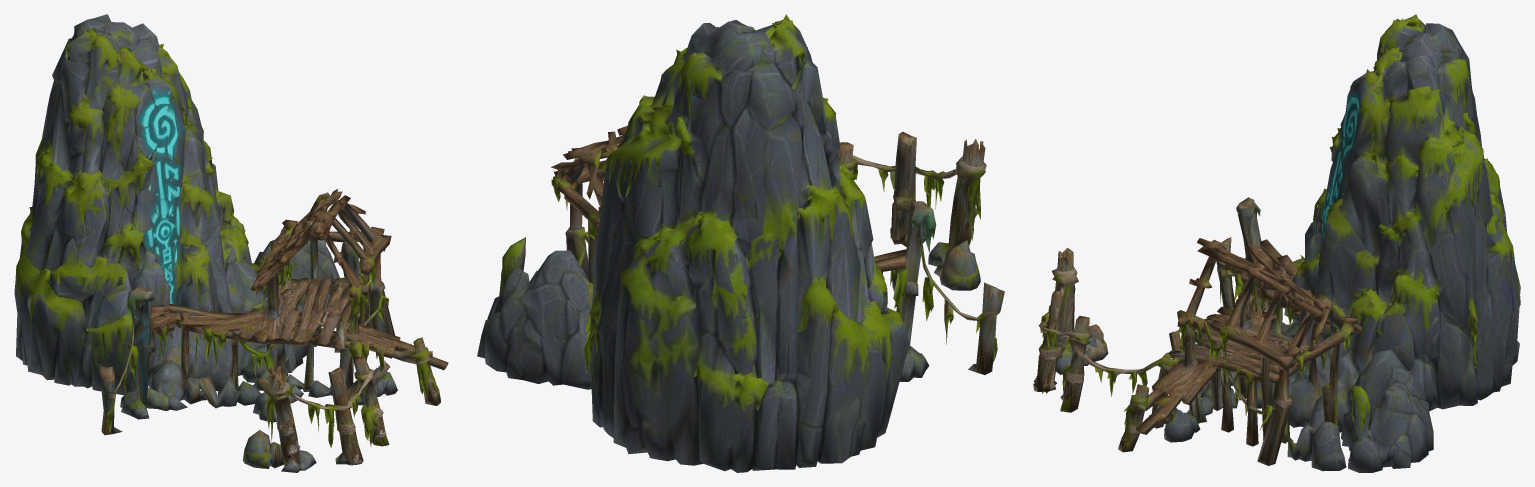
File: ruined_sunken_pier.glb
3 renders of one model, left to right at view 1: azimuth 30°, elevation 25°; view 2: azimuth 150°, elevation 25°; view 3: azimuth 270°, elevation 25°, orthographic. The views are drawn at different scales.
Parts seen in each view (by area): view 1: Model; view 2: Model; view 3: Model.
Boxes of the visible parts, box(x1,y1,x2,y2) form: Model: box(14, 14, 448, 472); Model: box(477, 14, 1004, 472); Model: box(1033, 14, 1520, 472).
Size of the model in its own units: 38.8 by 36.01 by 48.
Materials: 1 (1 with a texture image).
